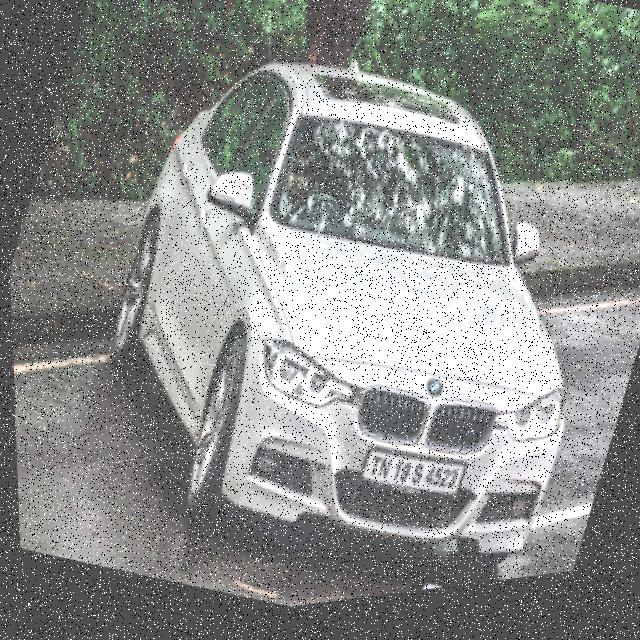license_plate: (346, 435, 466, 526)
